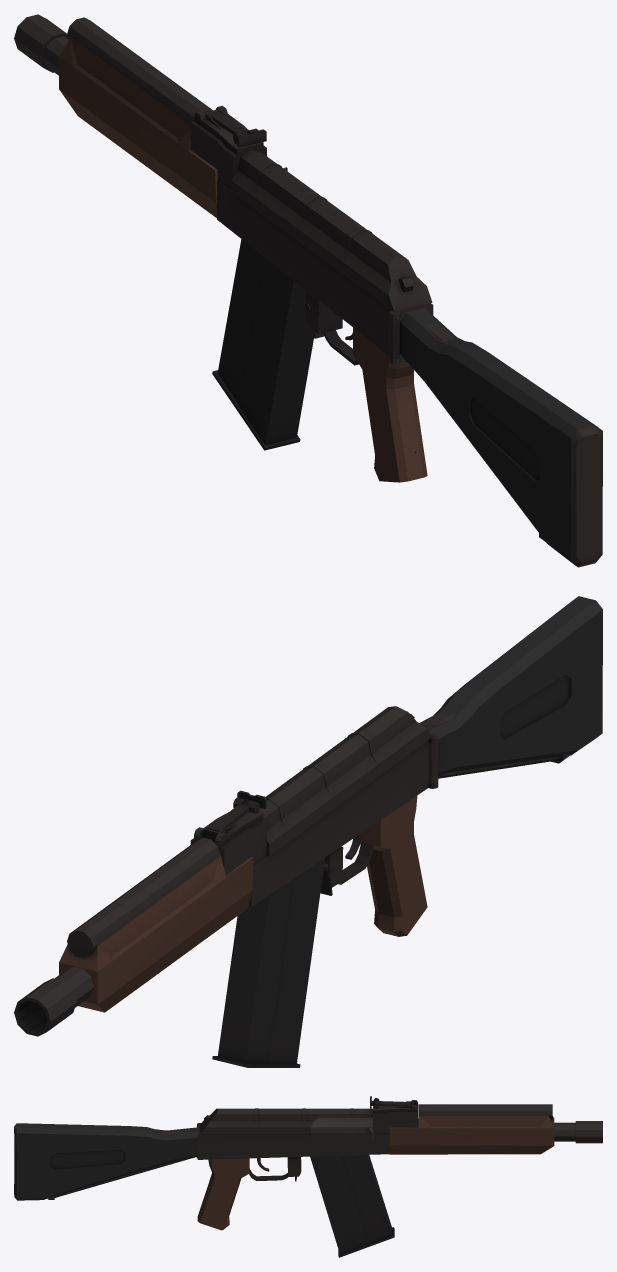
The model's file is SG_Shotgun.fbx.
3 views of the same model, one above another, from view 1: azimuth 30°, elevation 25°; view 2: azimuth 150°, elevation 25°; view 3: azimuth 270°, elevation 25° (orthographic). The views are drawn at different scales.
Visible parts, largest first — view 1: Stock_full_Polymer, Body, Handguard_Shotgun, Magazine_Shotgun_Standard, Grip, Barrel_Saiga_Short, Ironsights, Stock_Skeleton; view 2: Body, Stock_full_Polymer, Handguard_Shotgun, Magazine_Shotgun_Standard, Grip, Barrel_Saiga_Short, Stock_Skeleton, Ironsights; view 3: Stock_full_Polymer, Body, Handguard_Shotgun, Magazine_Shotgun_Standard, Grip, Barrel_Saiga_Short, Bolt, Stock_Skeleton, Ironsights.
Part boxes in pixels (x1,y1,x2,y2): Stock_full_Polymer: (390, 308, 602, 567); Body: (190, 105, 433, 365); Handguard_Shotgun: (59, 17, 217, 217); Magazine_Shotgun_Standard: (212, 239, 313, 450); Grip: (353, 327, 427, 482); Barrel_Saiga_Short: (14, 14, 68, 75); Ironsights: (206, 112, 266, 147); Stock_Skeleton: (389, 308, 545, 541); Body: (190, 706, 438, 906); Stock_full_Polymer: (419, 596, 602, 783); Handguard_Shotgun: (59, 837, 253, 1012); Magazine_Shotgun_Standard: (212, 857, 325, 1067); Grip: (360, 796, 427, 936); Barrel_Saiga_Short: (14, 966, 93, 1036); Stock_Skeleton: (424, 710, 569, 783); Ironsights: (208, 790, 266, 833); Stock_full_Polymer: (14, 1123, 197, 1200); Body: (197, 1100, 417, 1180); Handguard_Shotgun: (389, 1104, 554, 1154); Magazine_Shotgun_Standard: (310, 1155, 394, 1257); Grip: (197, 1158, 249, 1230); Barrel_Saiga_Short: (554, 1121, 602, 1143); Bolt: (311, 1117, 373, 1138); Stock_Skeleton: (48, 1129, 197, 1199); Ironsights: (370, 1096, 410, 1108).
Bounding box in the file's own units: 4.58 × 21.08 × 73.06.
